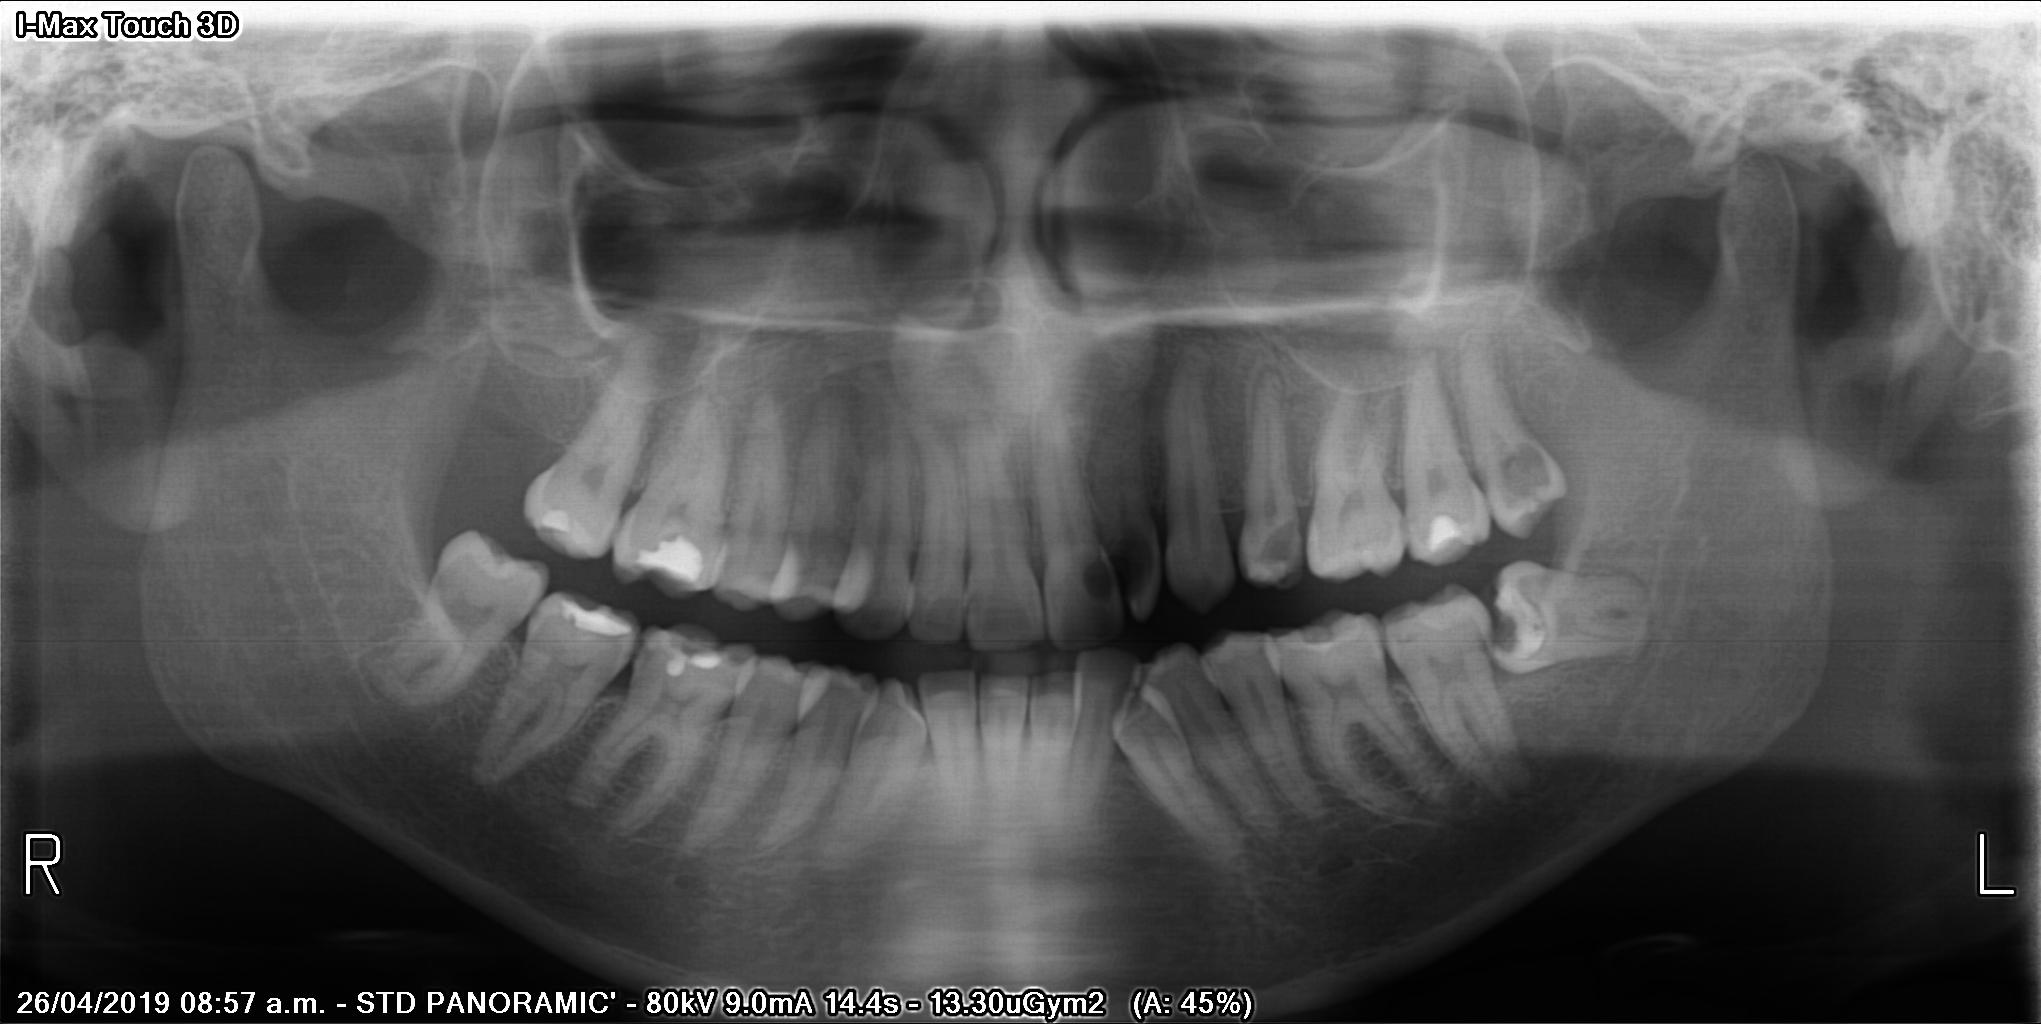Çürük: (633, 534, 713, 589), (562, 602, 628, 650), (1422, 511, 1470, 558), (665, 650, 736, 673)
Çürük Bölgesi: (1490, 444, 1562, 511), (1109, 536, 1158, 600), (1483, 605, 1532, 660), (1258, 521, 1301, 572), (1086, 559, 1120, 606), (535, 519, 565, 542)
